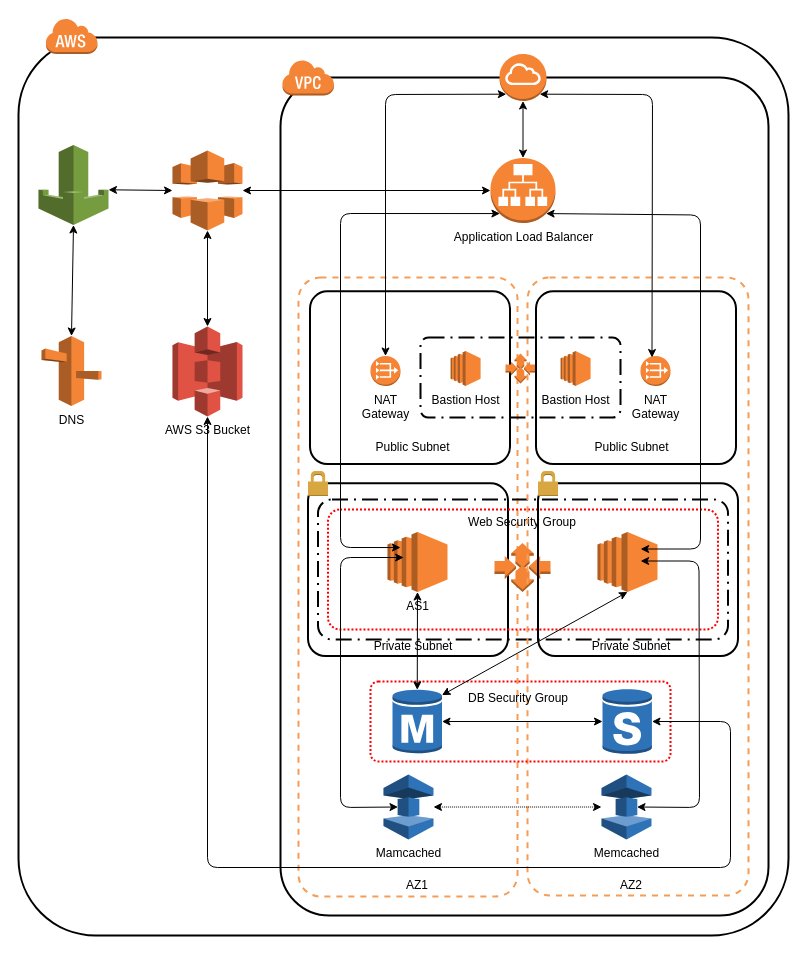
Some shapes in this 806 by 953 pixel diagram are drawn without their labels. Each missing label, with the centre of its shape:
AS2: (627,561)
Auto Scaling Group: (522,567)
CDN: (207,190)
Internet Gateway: (522,77)
WAF: (73,184)
